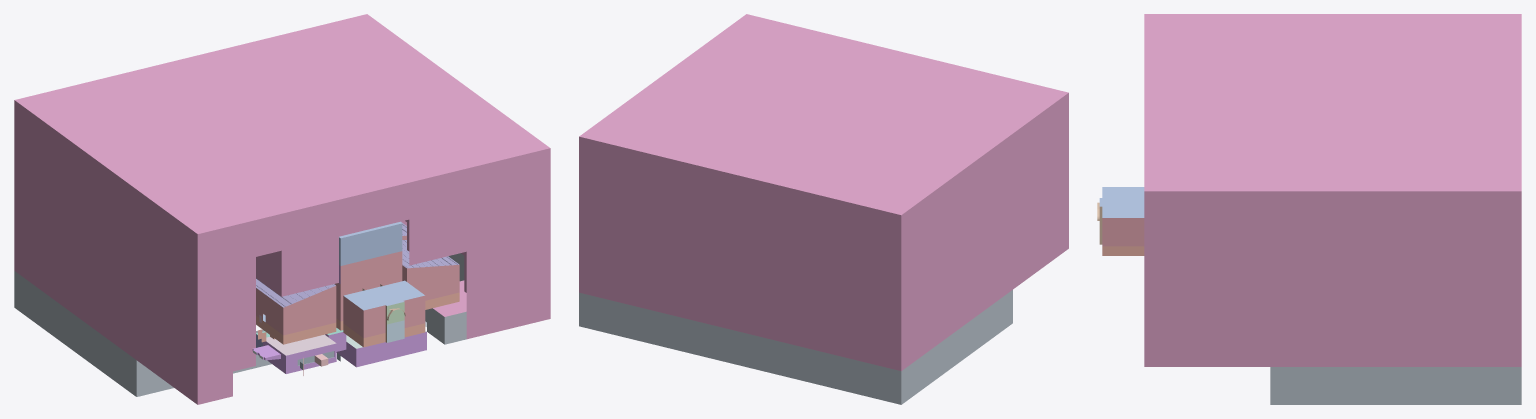
Rendered from Maptest.fbx.
3 views of the same model, side by side, from view 1: azimuth 30°, elevation 25°; view 2: azimuth 150°, elevation 25°; view 3: azimuth 270°, elevation 25° (orthographic). The views are drawn at different scales.
Visible parts, largest first — view 1: world_geometry; view 2: world_geometry; view 3: world_geometry.
Part boxes in pixels (bbox=[...]): world_geometry: bbox=[14, 14, 550, 404]; world_geometry: bbox=[579, 14, 1068, 404]; world_geometry: bbox=[1097, 14, 1521, 404].
Size of the model in its own units: 4877 by 2743 by 4938.
